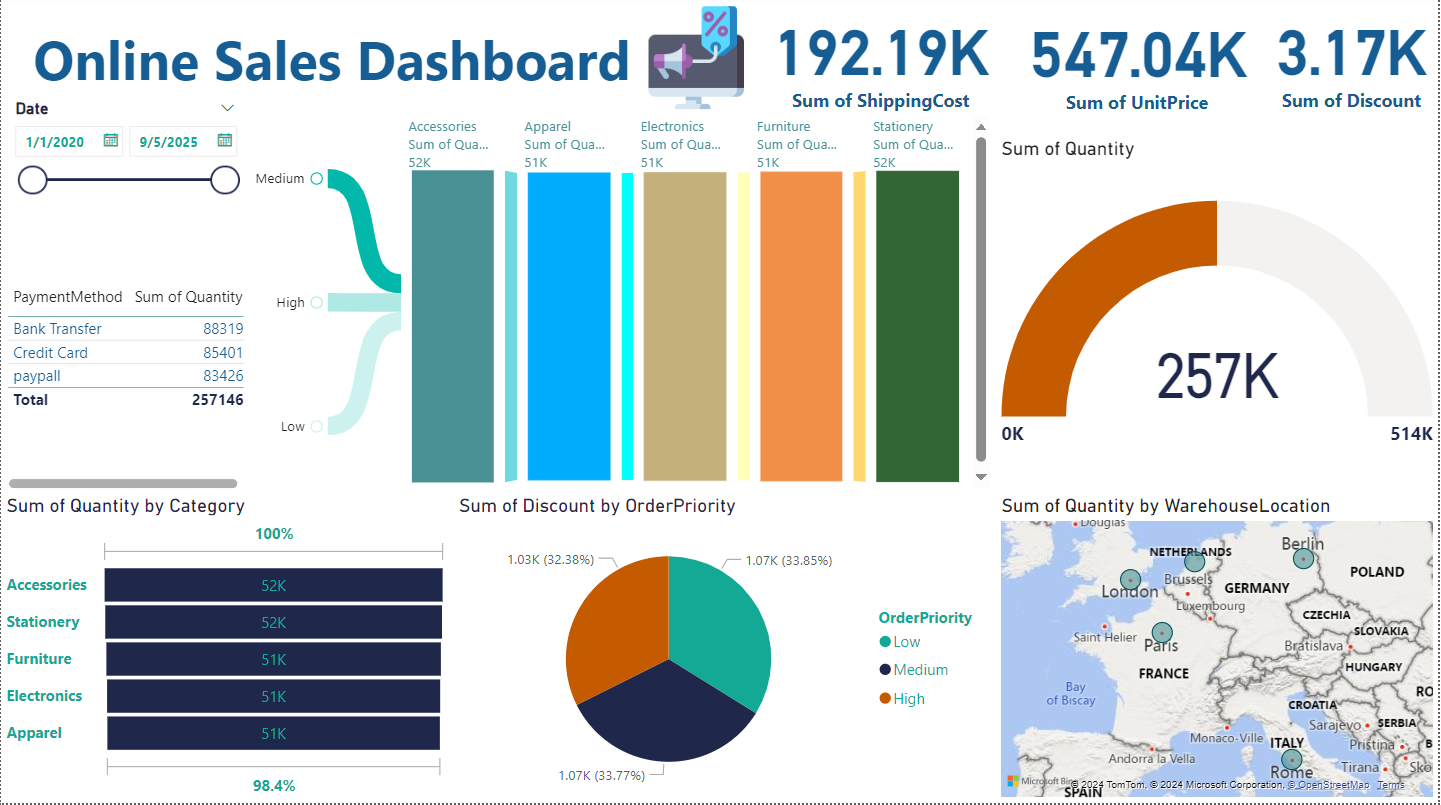

Layout of this report page (visuals, bound fields, positions):
{"tool":"powerbi","page":{"name":"Page 1","canvas":[1280,720],"ordinal":0},"visuals":[{"type":"shape","title":"Sales Dashboard","box":[0,8.1,589.5,95.3],"z":2,"group":"g1"},{"type":"group","id":"g1","title":"Group 1","box":[0,8.1,589.5,95.3],"z":4},{"type":"card","fields":{"Values":["Sum(online_sales_dataset (2).UnitPrice)"]},"box":[907,0,209.3,114],"z":5},{"type":"card","fields":{"Values":["Sum(online_sales_dataset (2).Discount)"]},"box":[1125.6,0,154.7,110.5],"z":6},{"type":"card","fields":{"Values":["Sum(online_sales_dataset (2).ShippingCost)"]},"box":[681.4,0,204.7,110.5],"z":7},{"type":"slicer","fields":{"Values":["online_sales_dataset (2).Date"]},"box":[0,88.4,220.9,150],"z":8},{"type":"funnel","fields":{"Y":["Sum(online_sales_dataset (2).Quantity)"],"Category":["online_sales_dataset (2).Category"]},"box":[0,444.2,403.5,275.6],"z":9},{"type":"image","box":[560.5,2.3,120.9,110.5],"z":10},{"type":"pieChart","fields":{"Category":["online_sales_dataset (2).OrderPriority"],"Y":["Sum(online_sales_dataset (2).Discount)"]},"box":[403.5,444.2,482.6,275.6],"z":12},{"type":"map","fields":{"Size":["Sum(online_sales_dataset (2).Quantity)"],"Category":["online_sales_dataset (2).WarehouseLocation"]},"box":[886,444.2,394.2,275.6],"z":13},{"type":"gauge","fields":{"Y":["Sum(online_sales_dataset (2).Quantity)"]},"box":[886,126.7,394.2,317.4],"z":14},{"type":"tableEx","fields":{"Values":["online_sales_dataset (2).PaymentMethod","Sum(online_sales_dataset (2).Quantity)"]},"box":[0,252.3,220.9,191.9],"z":15},{"type":"funnelwithsource1823AB39DB234AB522063E728AD51","fields":{"category":["online_sales_dataset (2).OrderPriority"],"subCategory":["online_sales_dataset (2).ReturnStatus"],"primaryMeasure":["Max(online_sales_dataset (2).Discount)"]},"box":[220.9,103.5,665.1,340.7],"z":16}]}

Visuals, with their boxes in screenshot pixels (x1, y1, x2, y2), scaled from the page's 1280x720 canvas onto the 1441x805 screenshot:
"Sales Dashboard" shape: bbox=[0, 9, 664, 116]
"Group 1" group: bbox=[0, 9, 664, 116]
card - Sum(online_sales_dataset (2).UnitPrice): bbox=[1021, 0, 1257, 127]
card - Sum(online_sales_dataset (2).Discount): bbox=[1267, 0, 1440, 124]
card - Sum(online_sales_dataset (2).ShippingCost): bbox=[767, 0, 998, 124]
slicer - online_sales_dataset (2).Date: bbox=[0, 99, 249, 267]
funnel - Sum(online_sales_dataset (2).Quantity) x online_sales_dataset (2).Category: bbox=[0, 497, 454, 804]
image: bbox=[631, 3, 767, 126]
pieChart - online_sales_dataset (2).OrderPriority x Sum(online_sales_dataset (2).Discount): bbox=[454, 497, 998, 804]
map - Sum(online_sales_dataset (2).Quantity) x online_sales_dataset (2).WarehouseLocation: bbox=[997, 497, 1440, 804]
gauge - Sum(online_sales_dataset (2).Quantity): bbox=[997, 142, 1440, 497]
tableEx - online_sales_dataset (2).PaymentMethod x Sum(online_sales_dataset (2).Quantity): bbox=[0, 282, 249, 497]
funnelwithsource1823AB39DB234AB522063E728AD51 - online_sales_dataset (2).OrderPriority x online_sales_dataset (2).ReturnStatus: bbox=[249, 116, 997, 497]
